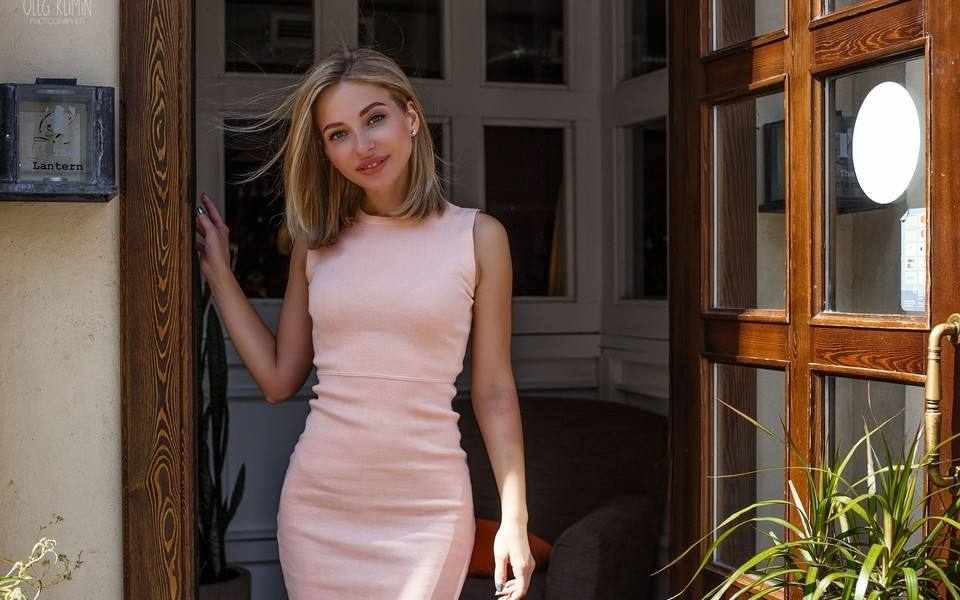person: (283, 67, 554, 568)
